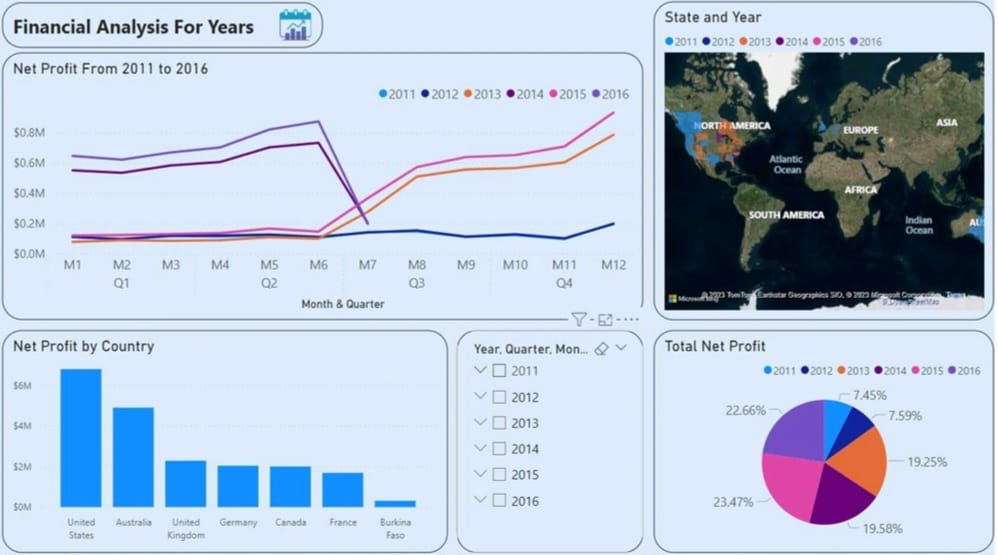

The dashboard page shown, as its layout file describes it:
{"tool":"powerbi","page":{"name":"Dates","canvas":[1280,720],"ordinal":3},"visuals":[{"type":"lineChart","title":"Net Profit From 2011 to 2016","fields":{"Y":["Date.Net Profit (2011)","Date.NEt Profit (2012)","Date.NEt Profit (2013)","Date.Net Profit (2014)","Date.Net Profit (2015)","Date.Net Profit(2016)"],"Category":["Date.Quarter","Date.Month"]},"box":[8,73.6,816,340.1],"z":0},{"type":"clusteredColumnChart","title":"Net Profit by Country","fields":{"Category":["Sales.Country1"],"Y":["Sum(Sales.Net Profit)"]},"box":[8.4,426.9,566.8,283.4],"z":1000},{"type":"pieChart","title":"Total Net Profit ","fields":{"Y":["Date.Net Profit (2011)","Date.NEt Profit (2012)","Date.NEt Profit (2013)","Date.Net Profit (2014)","Date.Net Profit (2015)","Date.Net Profit(2016)"]},"box":[838.2,426.9,433,283.4],"z":7000},{"type":"filledMap","fields":{"Category":["Sales.State"],"Series":["Sales.Year"]},"box":[838.2,8.4,433,405.2],"z":8000},{"type":"textbox","box":[8.4,9.6,407.6,57.9],"z":9000},{"type":"image","box":[357,13.3,49.4,49.4],"z":10000},{"type":"slicer","fields":{"Values":["Date.Year","Date.Quarter","Date.Month Name","Date.Day Of Week"]},"box":[587.3,426.9,237.6,283.4],"z":11000}]}

Visuals, with their boxes in screenshot pixels (x1, y1, x2, y2), scaled from the page's 1280x720 canvas onto the 998x555 screenshot:
"Net Profit From 2011 to 2016" lineChart: 6, 57, 642, 319
"Net Profit by Country" clusteredColumnChart: 7, 329, 448, 548
"Total Net Profit " pieChart: 654, 329, 991, 548
filledMap - Sales.State x Sales.Year: 654, 6, 991, 319
textbox: 7, 7, 324, 52
image: 278, 10, 317, 48
slicer - Date.Year x Date.Quarter: 458, 329, 643, 548
